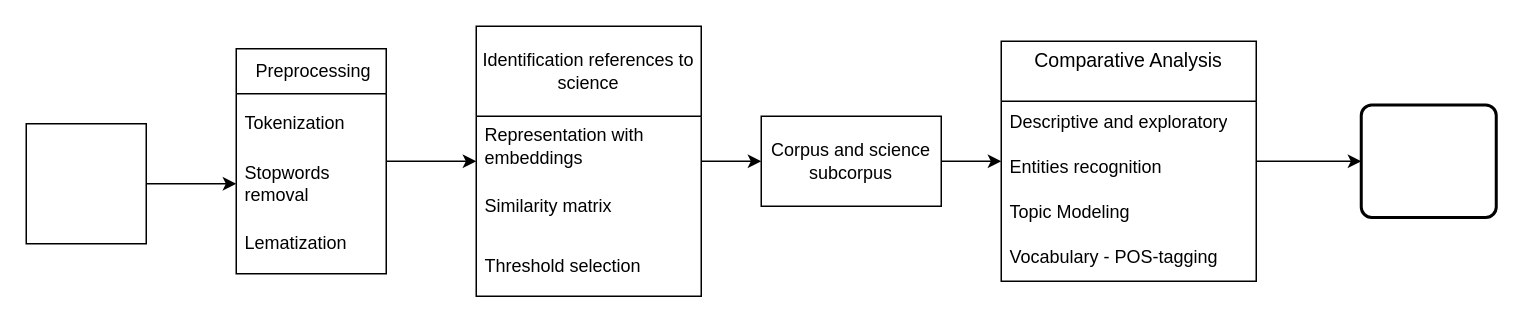
This 1524x323 diagram has some shape labels left out. The centre of each missing label's shape, as x and y in pixels:
"Data collection" belongs at point (85, 183).
"Interpretation and discussion" belongs at point (1428, 160).
